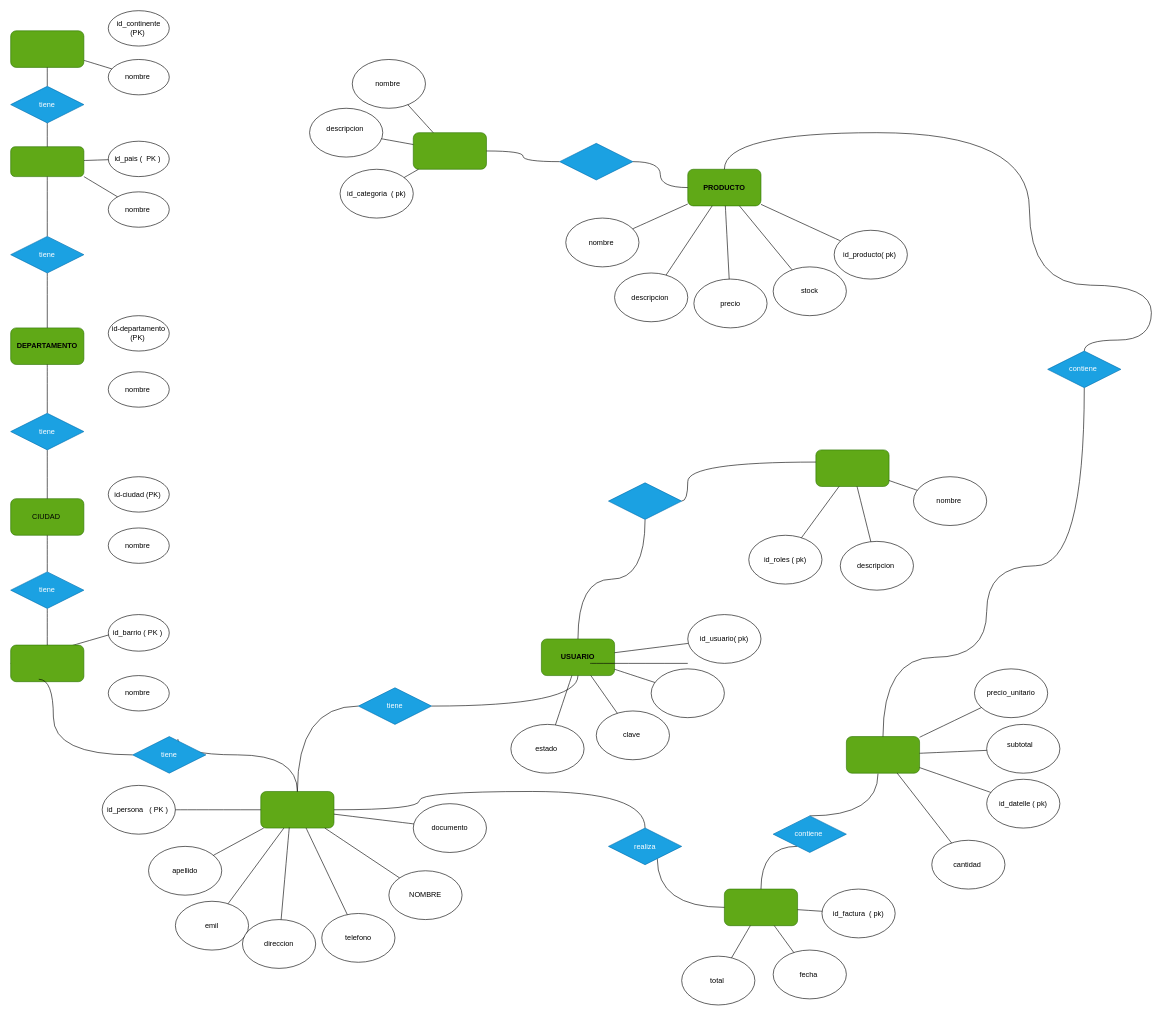
This 1162x1016 diagram has some shape labels left out. Here are the shapes that lost their labels. From the top down, the centre of each, then its label:
point (47, 48): CONTINENTE
point (47, 161): PAIS
point (449, 150): CATEGORIA
point (596, 161): clasifica
point (852, 467): ROLES
point (645, 500): asigna
point (47, 663): BARRIO
point (687, 693): nombre_usuario
point (883, 754): DETALLE FACTURA
point (297, 809): PERSONA
point (761, 907): FACTURA
